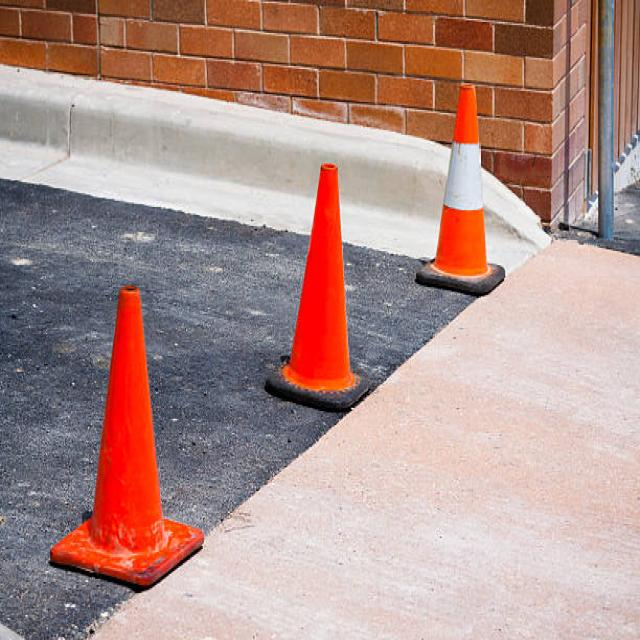Traffic Cone: (42, 254, 215, 602), (257, 128, 381, 418), (410, 56, 511, 320)
